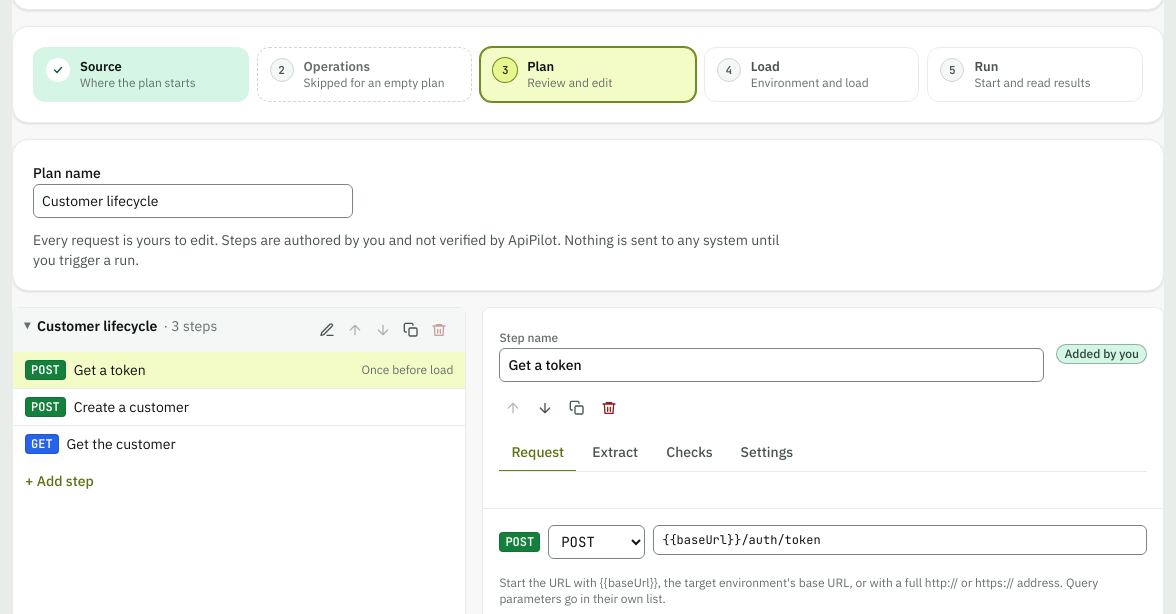
Scenario: the plan's chains on the Plan step › opens the plan check by itself while a problem blocks the script, and lets the engineer close it
The image size is (1176, 614).
Expected: the field labelled "Plan name" is shown, 33,184 -> 353,218
Click the text "Get the customer" at x=121, y=444, box 67,435 -> 176,453
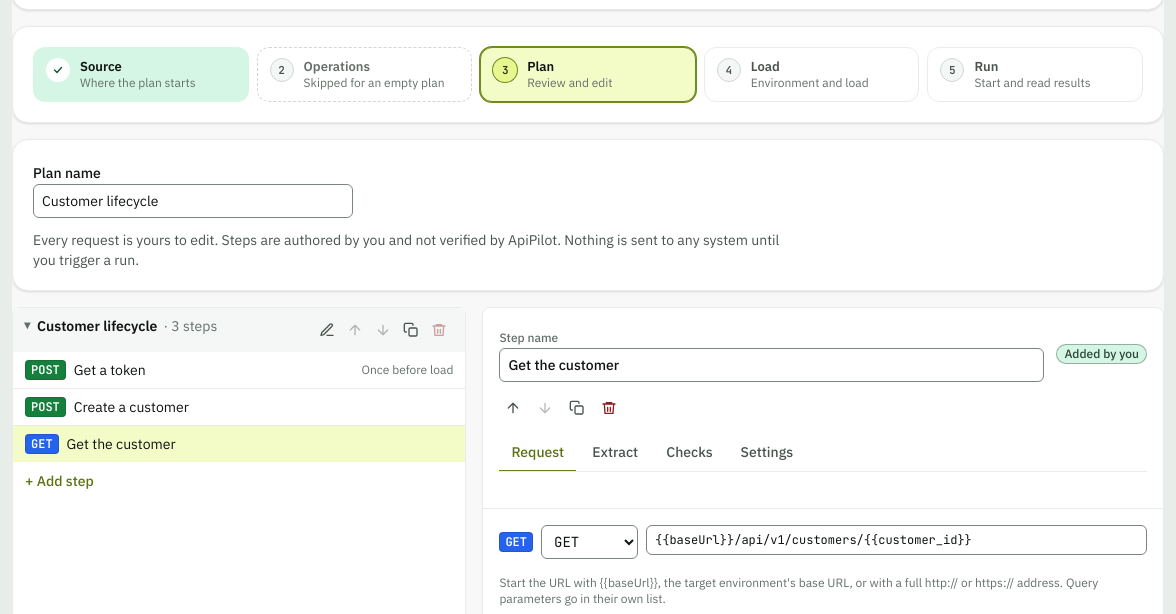
Click the button named "Move up" at x=513, y=408, box 499,394 -> 527,422
(page scrolled)
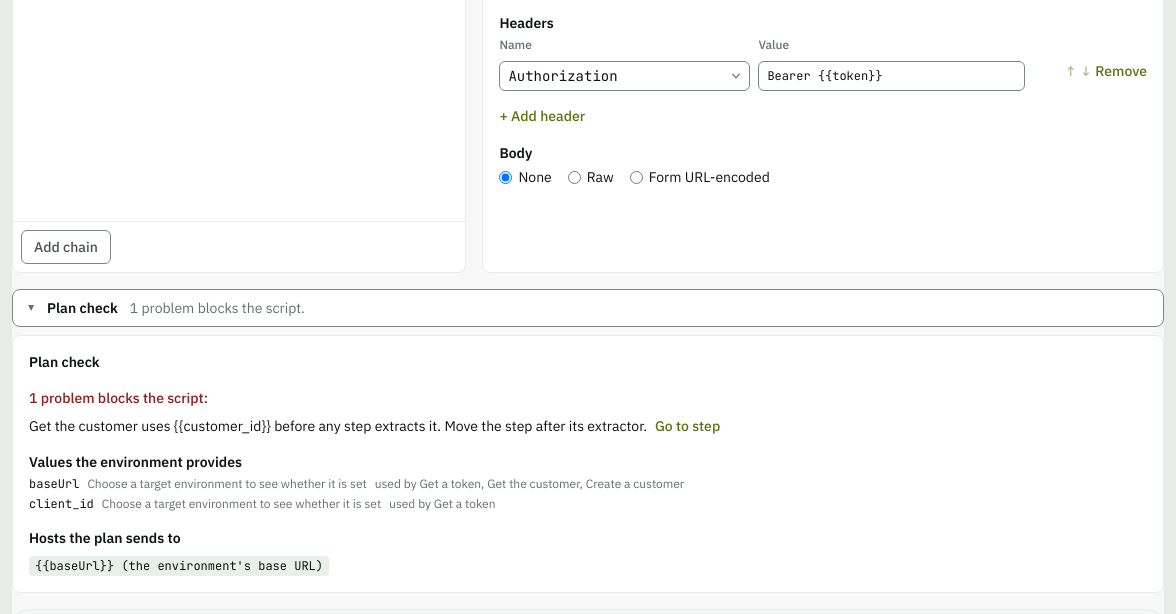
Expected: the button "▸ Plan check 1 problem blocks the script." is expanded
Expected: the button "▸ Plan check 1 problem blocks the script." is shown
Click the button "▸ Plan check 1 problem blocks the script." at x=82, y=308, box 12,289 -> 1164,327
(page scrolled)
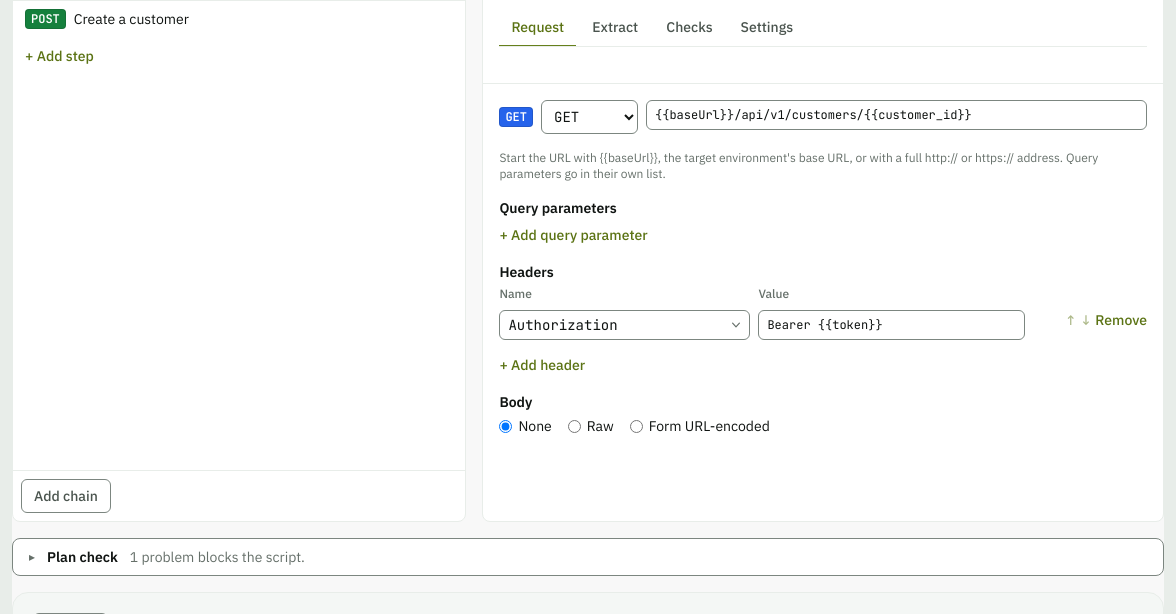
Expected: the button "▸ Plan check 1 problem blocks the script." is collapsed, 12,538 -> 1164,576
